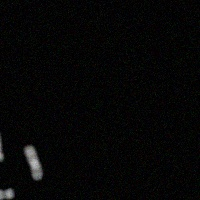chromosome: (24, 146, 44, 179), (0, 188, 15, 200), (0, 128, 2, 161)
